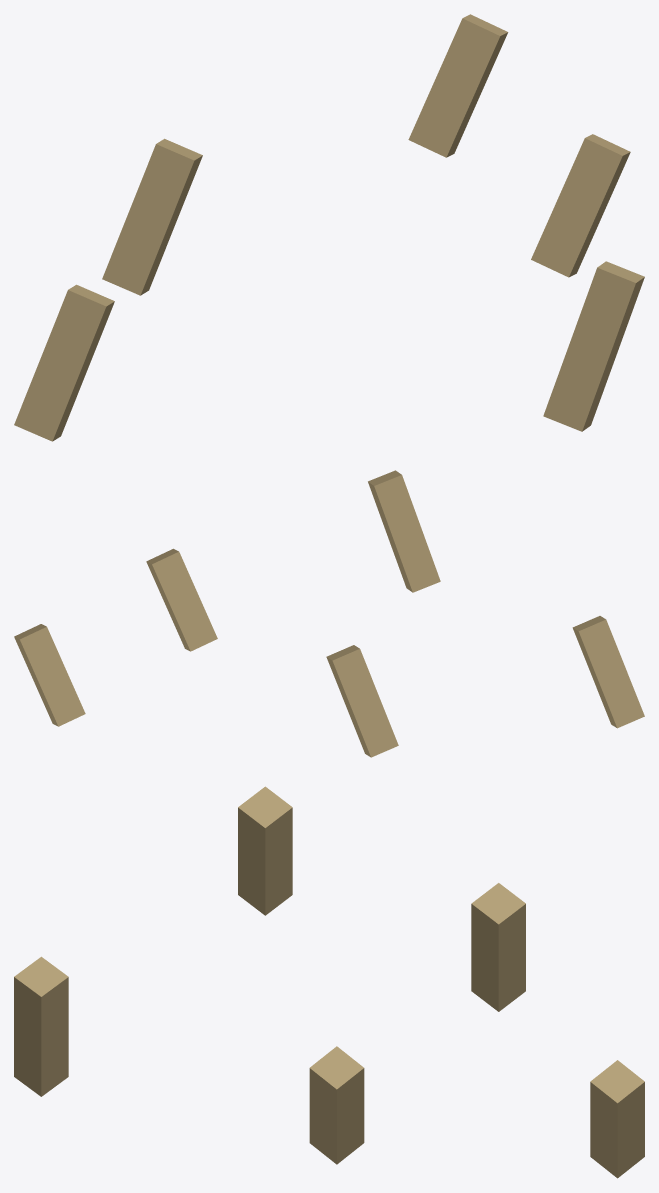
Rendered from plant_wild_root_spent.glb.
The picture shows the model from 3 angles, top to bottom: view 1: azimuth 30°, elevation 25°; view 2: azimuth 150°, elevation 25°; view 3: azimuth 270°, elevation 25°; orthographic projection. The views are drawn at different scales.
Parts seen in each view (by area): view 1: plant_wild_root_spent; view 2: plant_wild_root_spent; view 3: plant_wild_root_spent.
Part boxes in pixels (x1,y1,x2,y2): plant_wild_root_spent: (14,14,644,441); plant_wild_root_spent: (14,470,644,757); plant_wild_root_spent: (14,786,644,1178).
Size of the model in its own units: 0.3181 by 0.0702 by 0.2765.
